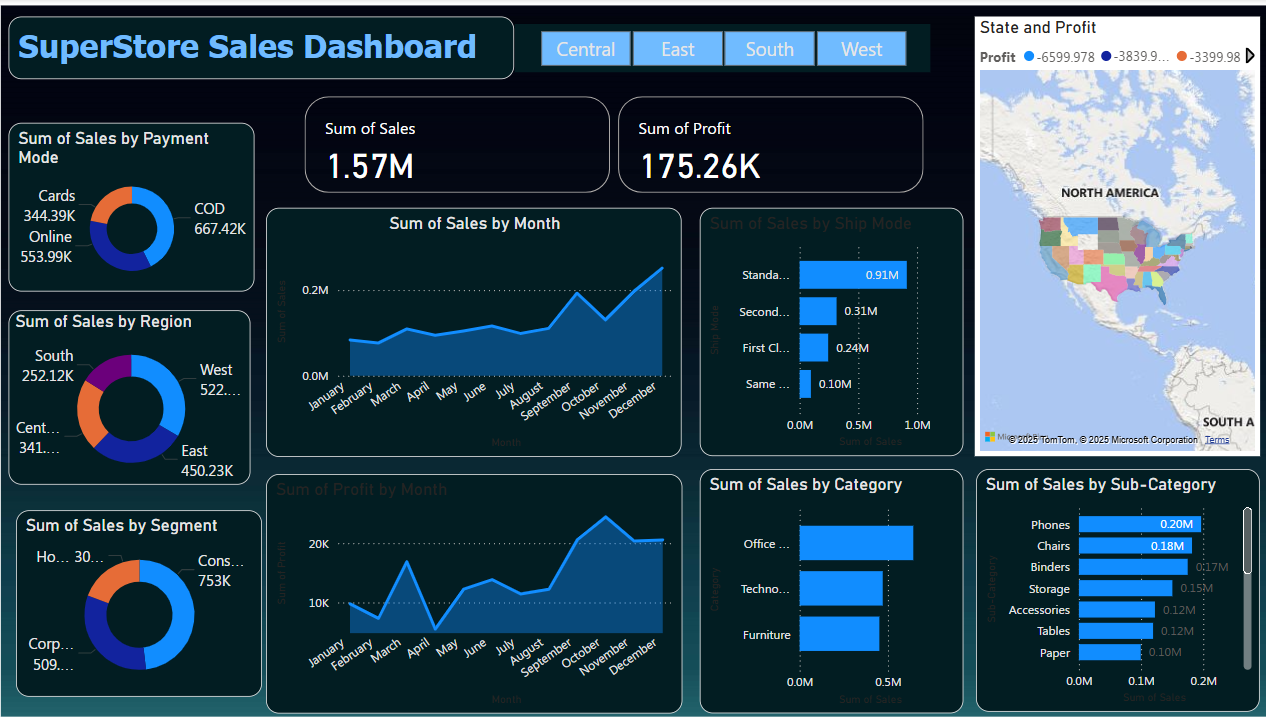

This screenshot's page, from the dashboard's own definition file:
{"tool":"powerbi","page":{"name":"Page 1","canvas":[1280,720],"ordinal":0},"visuals":[{"type":"image","box":[5.1,0,1269.8,720.9],"z":0},{"type":"donutChart","fields":{"Category":["Sheet1.Payment Mode"],"Y":["Sum(Sheet1.Sales)"]},"box":[17.8,123.5,244.5,168.1],"z":1000},{"type":"donutChart","fields":{"Category":["Sheet1.Region"],"Y":["Sum(Sheet1.Sales)"]},"box":[17.8,309.5,240.7,173.2],"z":2000},{"type":"donutChart","fields":{"Category":["Sheet1.Segment"],"Y":["Sum(Sheet1.Sales)"]},"box":[25.5,508.2,244.5,186],"z":3000},{"type":"slicer","fields":{"Values":["Sheet1.Region"]},"box":[520.9,25.5,413.9,48.4],"z":4000},{"type":"areaChart","fields":{"Category":["Sheet1.Ship Date.Variation.Date Hierarchy.Month"],"Y":["Sum(Sheet1.Sales)"]},"box":[273.8,207.6,413.9,248.4],"z":5000},{"type":"areaChart","fields":{"Y":["Sum(Sheet1.Profit)"],"Category":["Sheet1.Ship Date.Variation.Date Hierarchy.Month"]},"box":[273.7,472.5,414.4,238.6],"z":6000},{"type":"barChart","fields":{"Category":["Sheet1.Ship Mode"],"Y":["Sum(Sheet1.Sales)"]},"box":[705.6,207.6,262.4,247.1],"z":7000},{"type":"barChart","fields":{"Y":["Sum(Sheet1.Sales)"],"Category":["Sheet1.Category"]},"box":[705.6,467.4,262.4,243.3],"z":8000},{"type":"barChart","fields":{"Category":["Sheet1.Sub-Category"],"Y":["Sum(Sheet1.Sales)"]},"box":[980.7,467.4,282.7,242],"z":9000},{"type":"textbox","box":[17.8,17.8,503.1,62.4],"z":10000},{"type":"cardVisual","fields":{"Data":["Sum(Sheet1.Sales)","Sum(Sheet1.Profit)"]},"box":[306.9,91.7,627.9,107],"z":11000},{"type":"filledMap","fields":{"Category":["Sheet1.State"],"Series":["Sheet1.Profit"]},"box":[979,17.4,283.6,437.9],"z":12000}]}

Visuals, with their boxes in screenshot pixels (x1, y1, x2, y2), scaled from the page's 1280x720 canvas onto the 1266x717 screenshot:
image: detection(5, 0, 1261, 716)
donutChart - Sheet1.Payment Mode x Sum(Sheet1.Sales): detection(18, 123, 259, 290)
donutChart - Sheet1.Region x Sum(Sheet1.Sales): detection(18, 308, 256, 481)
donutChart - Sheet1.Segment x Sum(Sheet1.Sales): detection(25, 506, 267, 691)
slicer - Sheet1.Region: detection(515, 25, 925, 74)
areaChart - Sheet1.Ship Date.Variation.Date Hierarchy.Month x Sum(Sheet1.Sales): detection(271, 207, 680, 454)
areaChart - Sum(Sheet1.Profit) x Sheet1.Ship Date.Variation.Date Hierarchy.Month: detection(271, 471, 681, 708)
barChart - Sheet1.Ship Mode x Sum(Sheet1.Sales): detection(698, 207, 957, 453)
barChart - Sum(Sheet1.Sales) x Sheet1.Category: detection(698, 465, 957, 708)
barChart - Sheet1.Sub-Category x Sum(Sheet1.Sales): detection(970, 465, 1250, 706)
textbox: detection(18, 18, 515, 80)
cardVisual - Sum(Sheet1.Sales) x Sum(Sheet1.Profit): detection(304, 91, 925, 198)
filledMap - Sheet1.State x Sheet1.Profit: detection(968, 17, 1249, 453)
